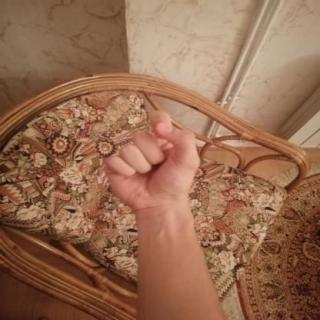FAA: (92, 102, 211, 221)
